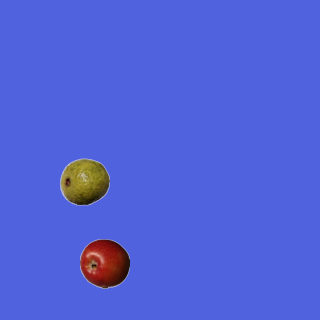Apple Braeburn: (79, 238, 129, 288)
Guava: (59, 156, 109, 206)
